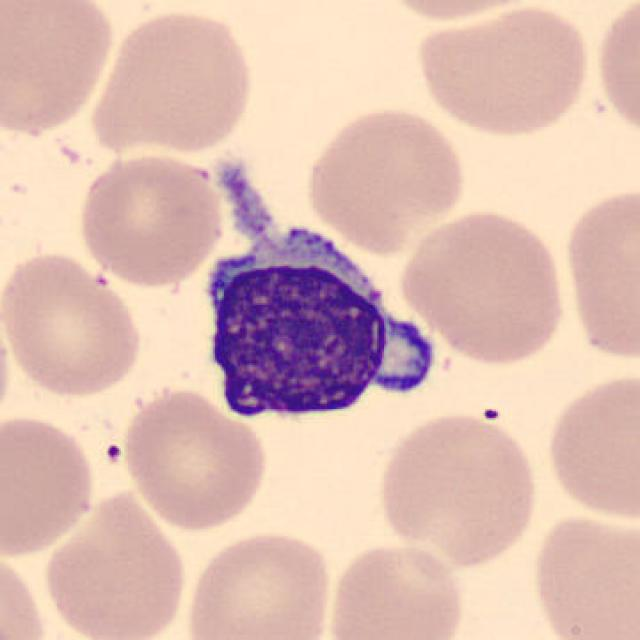Lymphocyte: (190, 168, 444, 438)
RBC: (394, 204, 570, 368), (373, 408, 544, 572), (407, 0, 596, 141), (85, 5, 258, 157), (301, 102, 471, 254), (39, 485, 190, 640), (117, 382, 272, 532), (0, 247, 146, 400), (73, 148, 226, 289), (181, 525, 336, 640), (0, 0, 117, 139), (540, 367, 640, 525), (321, 537, 469, 640), (526, 508, 640, 640), (560, 180, 640, 365), (0, 409, 98, 559), (592, 0, 640, 146), (0, 545, 50, 640), (366, 0, 555, 25), (0, 292, 14, 433)
